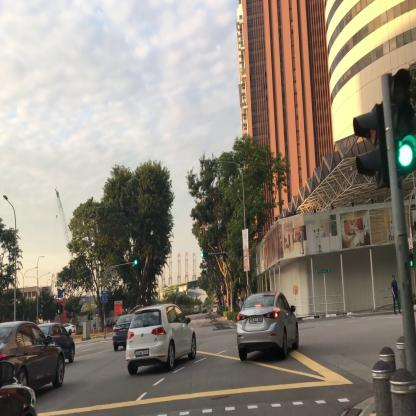green_traffic_light: (394, 76, 416, 168), (134, 260, 142, 265), (200, 252, 208, 256)
